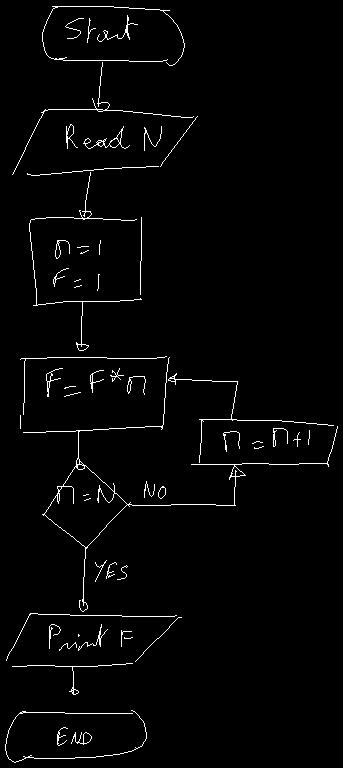arrow: (129, 465, 245, 505), (168, 373, 237, 420), (92, 62, 109, 111), (76, 302, 88, 350), (79, 172, 91, 219), (79, 547, 87, 611), (76, 431, 84, 469), (69, 667, 78, 694)
data: (12, 109, 197, 175), (6, 613, 181, 666)
decision: (42, 461, 130, 548)
process: (20, 356, 169, 432), (29, 217, 141, 305), (191, 419, 337, 466)
terminator: (42, 6, 184, 65), (5, 710, 146, 762)
text: (46, 368, 145, 396), (66, 124, 161, 150), (53, 240, 100, 290), (49, 624, 132, 650), (223, 428, 309, 451), (65, 15, 137, 42), (57, 483, 114, 503), (95, 560, 127, 581), (57, 727, 91, 745), (144, 481, 165, 498)
